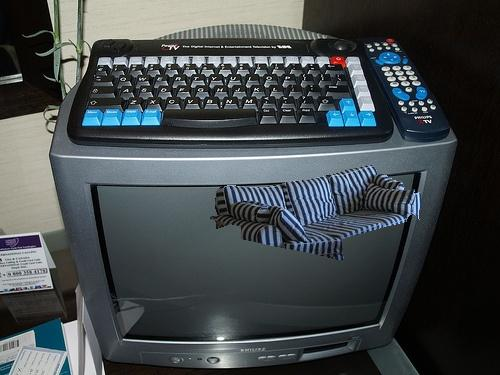tampered: (211, 166, 421, 260)
